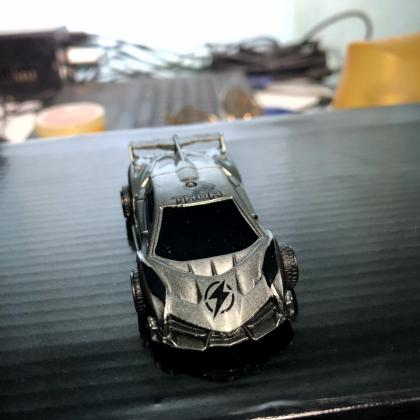Car: (118, 129, 304, 358)
